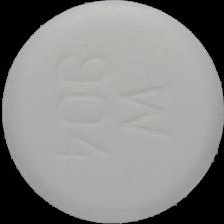69158-005: (0, 0, 224, 224)
